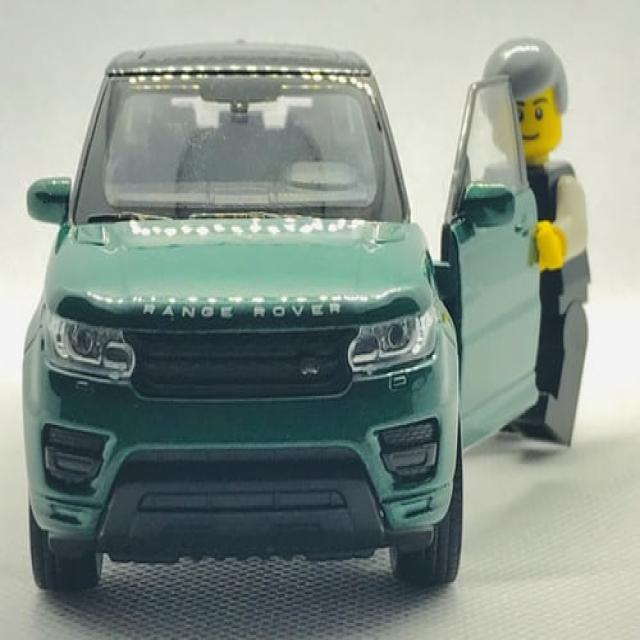Car: (20, 38, 589, 592)
